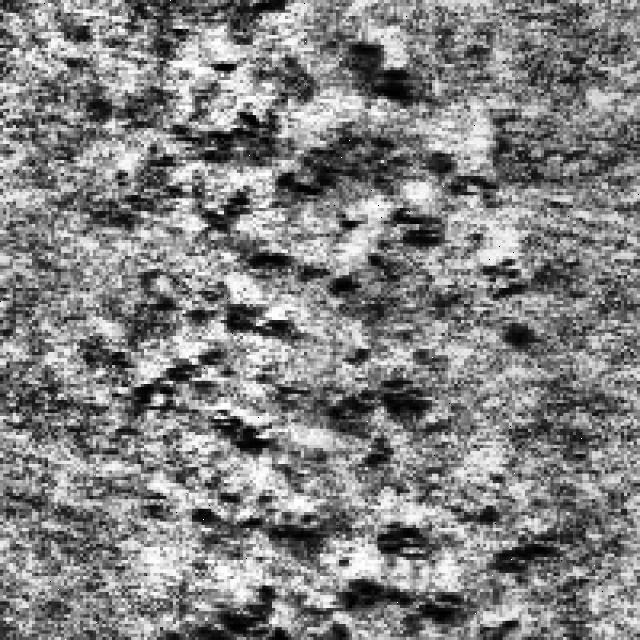Crazing: (160, 39, 499, 630), (124, 16, 454, 291)
